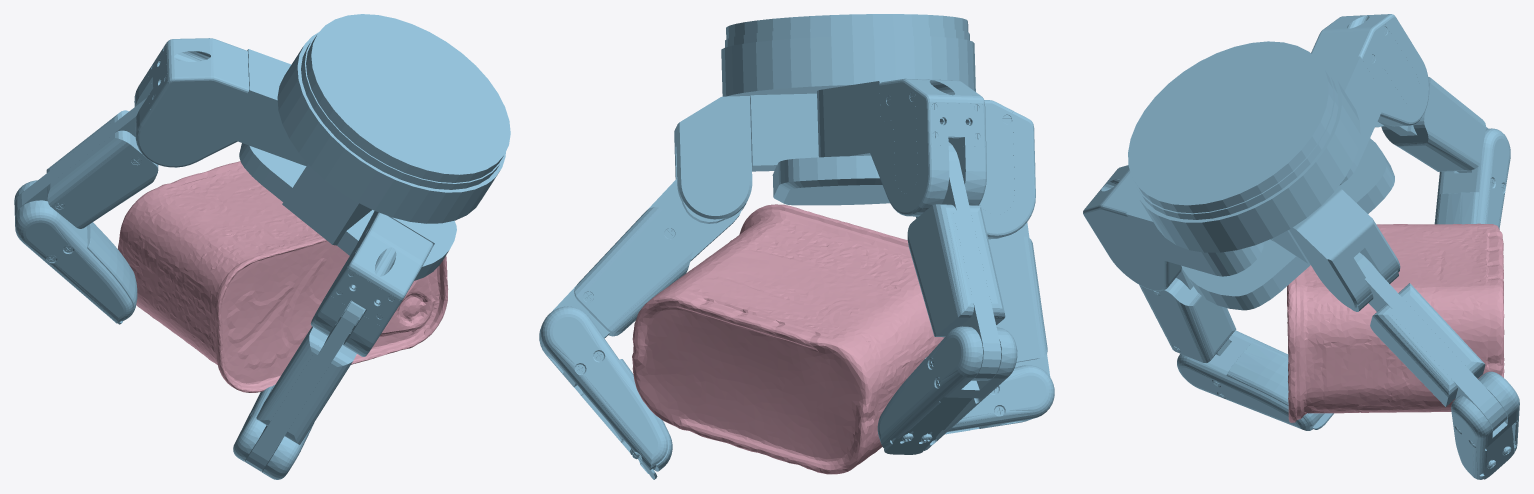
The picture shows the model from 3 angles, left to right: view 1: azimuth 30°, elevation 25°; view 2: azimuth 150°, elevation 25°; view 3: azimuth 270°, elevation 25°; orthographic projection. The views are drawn at different scales.
Parts seen in each view (by area): view 1: world; view 2: world; view 3: world.
Boxes of the visible parts, x1,y1,x2,y2 form: world: (14,14,510,479); world: (539,14,1054,479); world: (1083,14,1519,479).
Size of the model in its own units: 0.1896 by 0.1645 by 0.1679.
